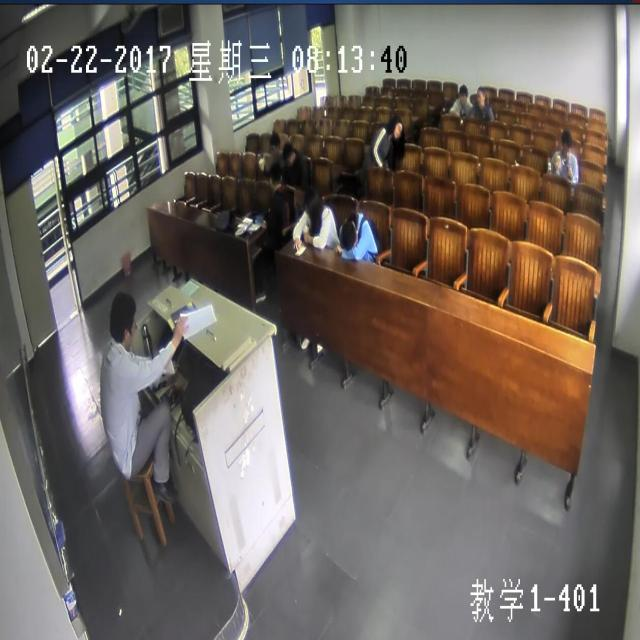person: (108, 290, 136, 346), (340, 218, 358, 249), (304, 189, 323, 217), (267, 166, 281, 190), (269, 133, 281, 157), (389, 117, 402, 139), (560, 130, 571, 155), (282, 142, 294, 162), (476, 85, 486, 107), (458, 84, 468, 104)
